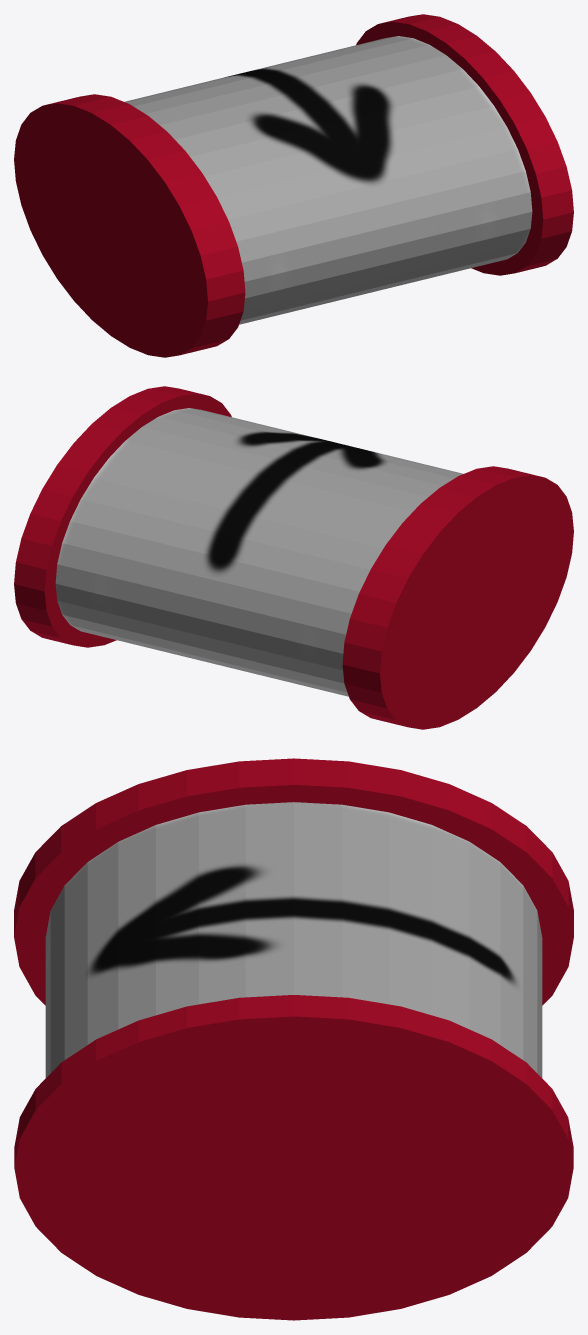
Rendered from SpeedRamp.glb.
3 views of the same model, one above another, from view 1: azimuth 30°, elevation 25°; view 2: azimuth 150°, elevation 25°; view 3: azimuth 270°, elevation 25° (orthographic). The views are drawn at different scales.
Parts seen in each view (by area): view 1: Cylinder; view 2: Cylinder; view 3: Cylinder.
Boxes of the visible parts, x1,y1,x2,y2 form: Cylinder: [14, 14, 573, 357]; Cylinder: [14, 386, 573, 729]; Cylinder: [14, 758, 573, 1320].
Size of the model in its own units: 2.46 by 1.35 by 2.26.
1 material, 1 textured.
